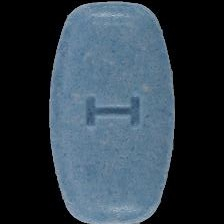61786-950: (0, 0, 224, 224)
